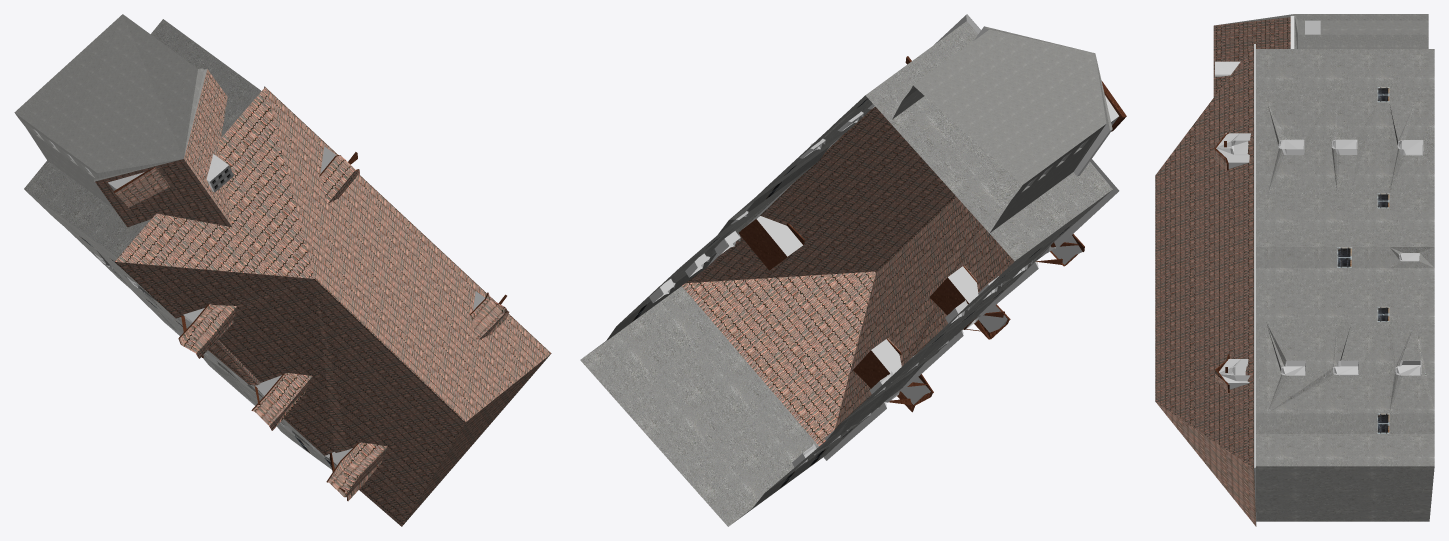
File: Aida_5-origo.obj
3 renders of one model, left to right at view 1: azimuth 30°, elevation 25°; view 2: azimuth 150°, elevation 25°; view 3: azimuth 270°, elevation 25°, orthographic. The views are drawn at different scales.
Parts seen in each view (by area): view 1: Mesh_Aida_5; view 2: Mesh_Aida_5; view 3: Mesh_Aida_5.
Part boxes in pixels (x1,y1,x2,y2): Mesh_Aida_5: [14, 14, 551, 526]; Mesh_Aida_5: [580, 14, 1126, 526]; Mesh_Aida_5: [1155, 14, 1434, 526].
Bounding box in the file's own units: 38.62 × 40.5 × 23.64.
